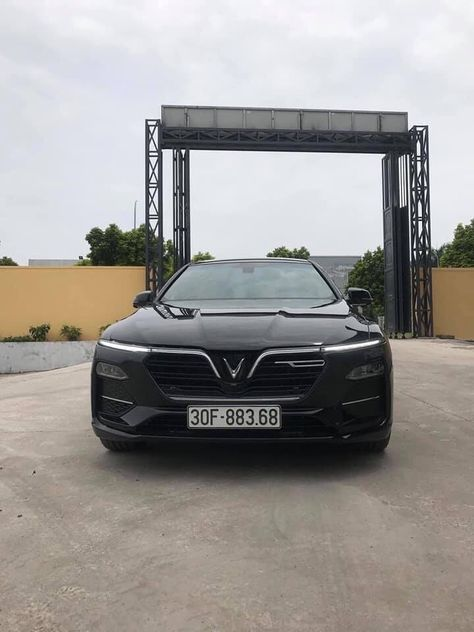number-plate: (188, 406, 284, 430)
